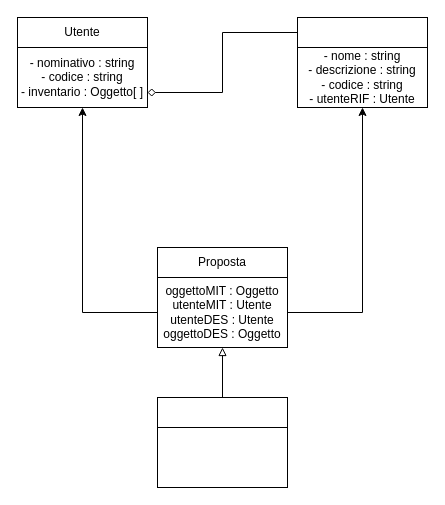
Some shapes in this 445 by 505 pixel diagram are drawn without their labels. Here are the shapes that lost their labels. From the top down, the centre of each, then its label:
point 362,32: Oggetto
point 222,412: Transazione
point 222,457: codice : string
